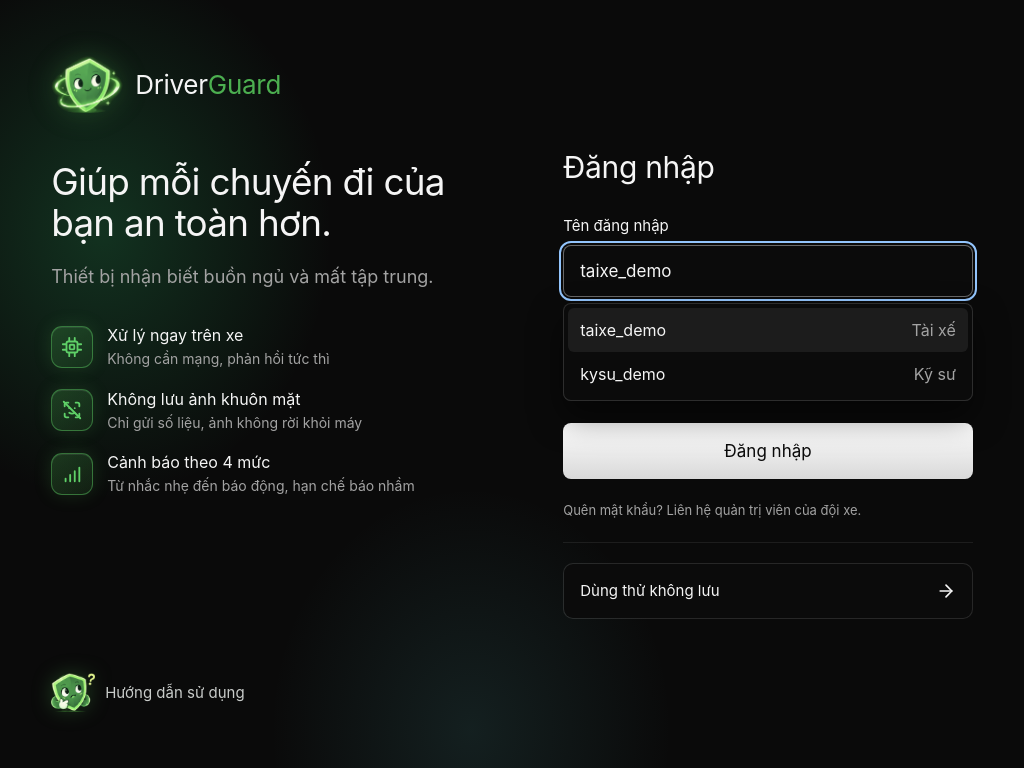
login page › a press on the username field lists the demo accounts; picking the engineer fills both fields
The image size is (1024, 768).
Press the mouse on the option "kysu_demo Kỹ sư" at (623, 374), box [580,364,956,384]
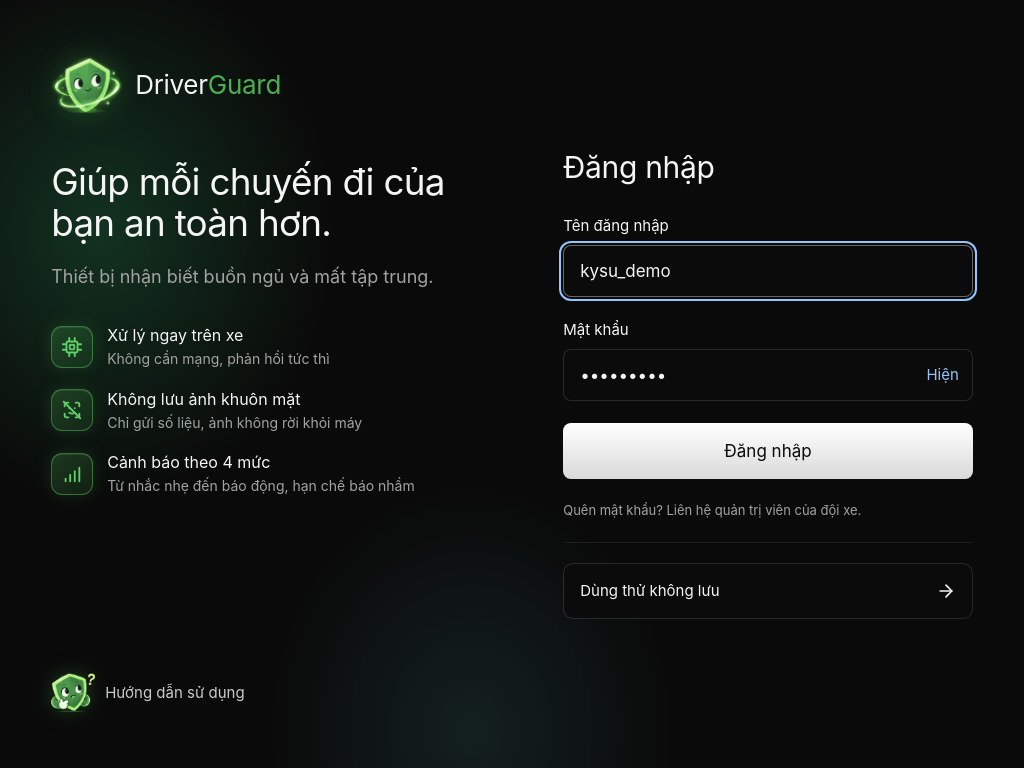
expect the list is gone: met
